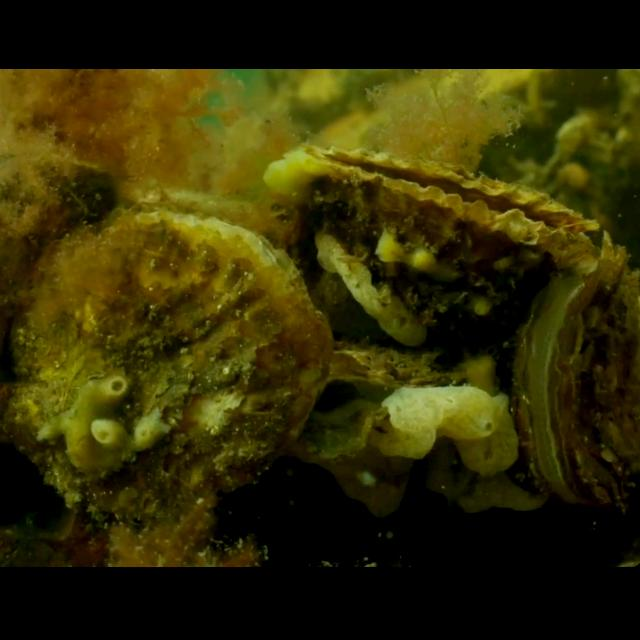Oyster-Closed: (1, 205, 333, 531)
Oyster-Open: (264, 140, 602, 344), (506, 229, 640, 511), (300, 338, 510, 458)
